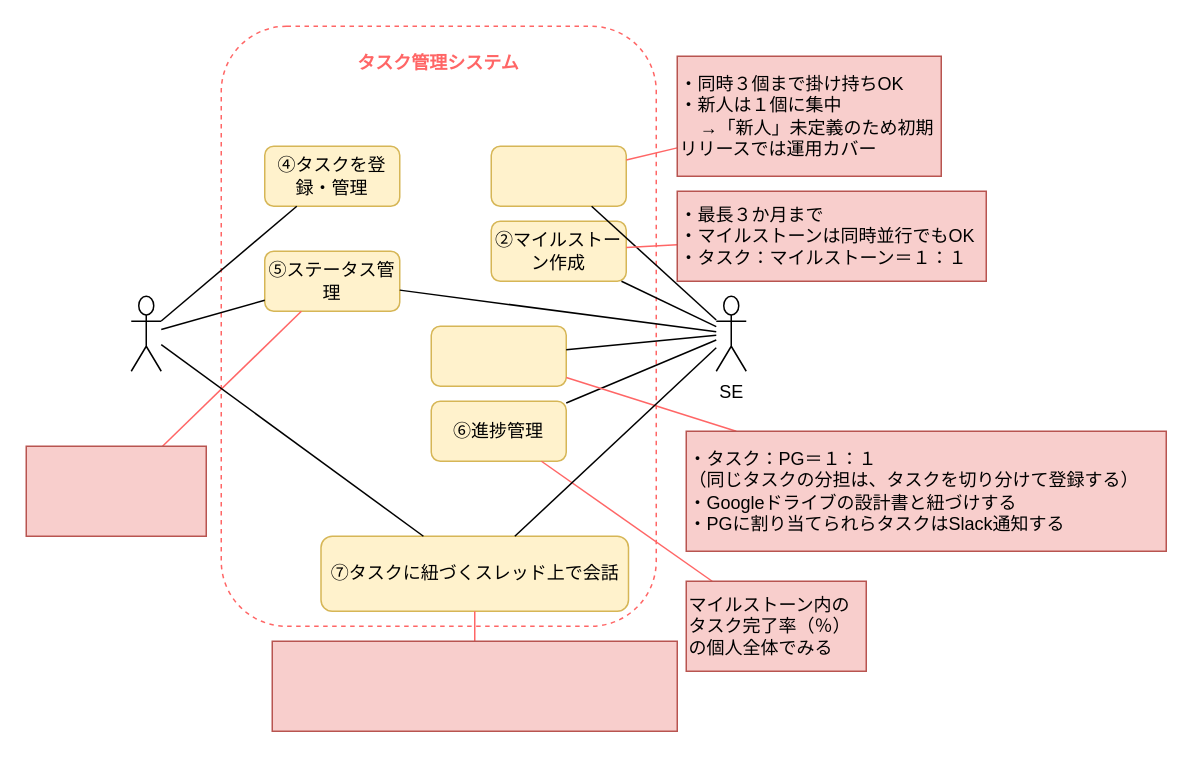
The diagram is 1193 pixels wide and 758 high, and some of its shapes have lost their labels. The shapes that lost their labels are listed below. From the top down, each one's centre as x and y in pixels, then its label:
At pixel 558 175: "①プロダクト作成".
At pixel 145 333: "PG".
At pixel 498 355: "③タスクを 登録・管理".
At pixel 115 490: "未着手、作業中、レビュー依頼中、レビュー中、完了 （権限管理は割愛）".
At pixel 474 685: "・タスク：スレッド＝１：N（上限５個） →多すぎる場合、タスク内容に問題があると判断してタスク見直しを行う。".
